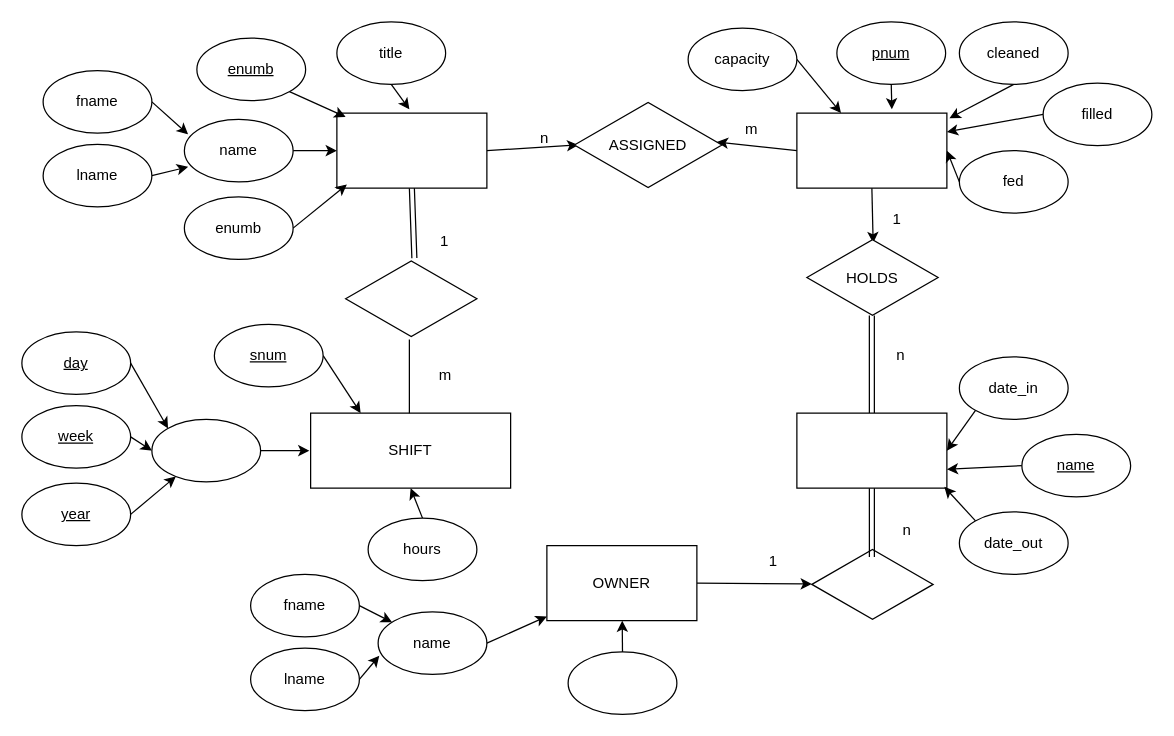
Some shapes in this 1174 by 736 pixel diagram are drawn without their labels. The centre of each missing label's shape, as x and y in pixels:
"date" goes at (x=206, y=450).
"EMPLOYEE" goes at (x=411, y=150).
"HAVE" goes at (x=872, y=584).
"PEN" goes at (x=871, y=150).
"PETS" goes at (x=871, y=450).
"phone" goes at (x=622, y=682).
"WORKS" goes at (x=410, y=298).
